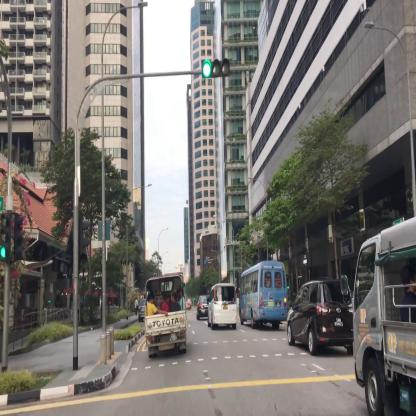green_traffic_light: (200, 57, 232, 76)
